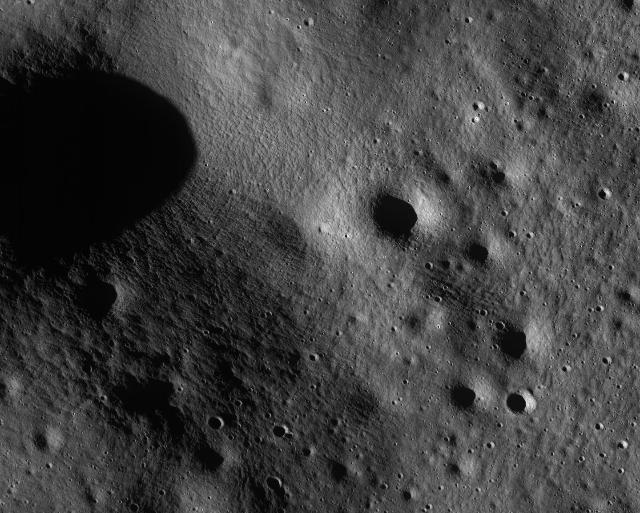crater: (1, 34, 238, 282), (112, 370, 178, 422), (364, 187, 424, 244), (66, 275, 126, 328), (489, 320, 539, 364), (156, 400, 190, 446), (192, 438, 230, 476), (445, 379, 479, 413), (502, 388, 536, 419), (28, 426, 62, 456), (462, 237, 493, 269), (217, 357, 245, 389), (246, 480, 272, 511), (328, 460, 356, 484), (616, 285, 634, 307), (616, 0, 638, 18), (608, 318, 630, 336), (0, 376, 14, 404), (448, 460, 466, 478), (266, 475, 284, 492), (596, 186, 614, 202), (208, 415, 225, 431), (272, 424, 288, 440), (80, 360, 94, 378), (400, 489, 416, 503), (438, 171, 452, 187), (513, 119, 529, 133), (472, 99, 486, 113), (84, 492, 98, 506), (615, 70, 631, 82), (600, 355, 614, 367), (362, 497, 374, 511), (444, 434, 458, 446), (494, 170, 506, 183), (592, 420, 606, 431), (308, 352, 320, 364), (301, 446, 313, 458), (324, 425, 336, 437), (302, 16, 314, 28), (616, 440, 628, 452), (258, 310, 272, 320), (488, 159, 500, 170), (212, 326, 224, 337), (575, 454, 587, 465), (468, 320, 478, 332), (494, 322, 506, 332), (128, 503, 140, 513), (231, 399, 243, 409), (486, 440, 496, 452), (560, 363, 572, 373), (594, 304, 606, 314), (462, 15, 474, 25), (538, 108, 550, 118), (474, 309, 488, 317), (441, 260, 452, 270), (263, 410, 273, 421), (507, 230, 518, 240), (378, 482, 389, 492), (422, 503, 434, 512), (284, 431, 294, 441), (424, 262, 434, 272), (432, 295, 442, 305), (241, 440, 251, 450), (330, 418, 340, 428), (44, 462, 54, 472), (526, 92, 536, 102), (24, 0, 36, 8), (157, 488, 166, 498), (412, 148, 422, 157), (92, 397, 100, 407), (526, 230, 534, 240), (598, 450, 606, 460), (578, 112, 586, 122), (254, 436, 262, 444), (501, 210, 509, 218), (518, 91, 526, 99), (522, 56, 530, 64), (390, 326, 398, 334), (401, 378, 409, 386), (518, 289, 526, 297), (275, 506, 284, 513), (494, 422, 504, 428), (466, 448, 474, 455), (202, 330, 210, 336), (634, 125, 640, 133), (604, 101, 610, 109), (617, 468, 623, 474)
